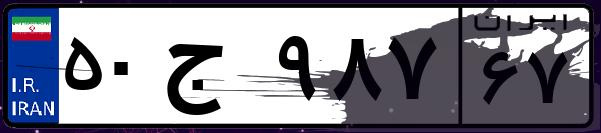0: (110, 28, 158, 98)
5: (57, 26, 110, 100)
6: (475, 38, 525, 113)
7: (385, 28, 445, 110), (525, 38, 570, 115)
8: (330, 28, 385, 110)
9: (270, 28, 330, 110)
ج: (158, 20, 270, 120)
